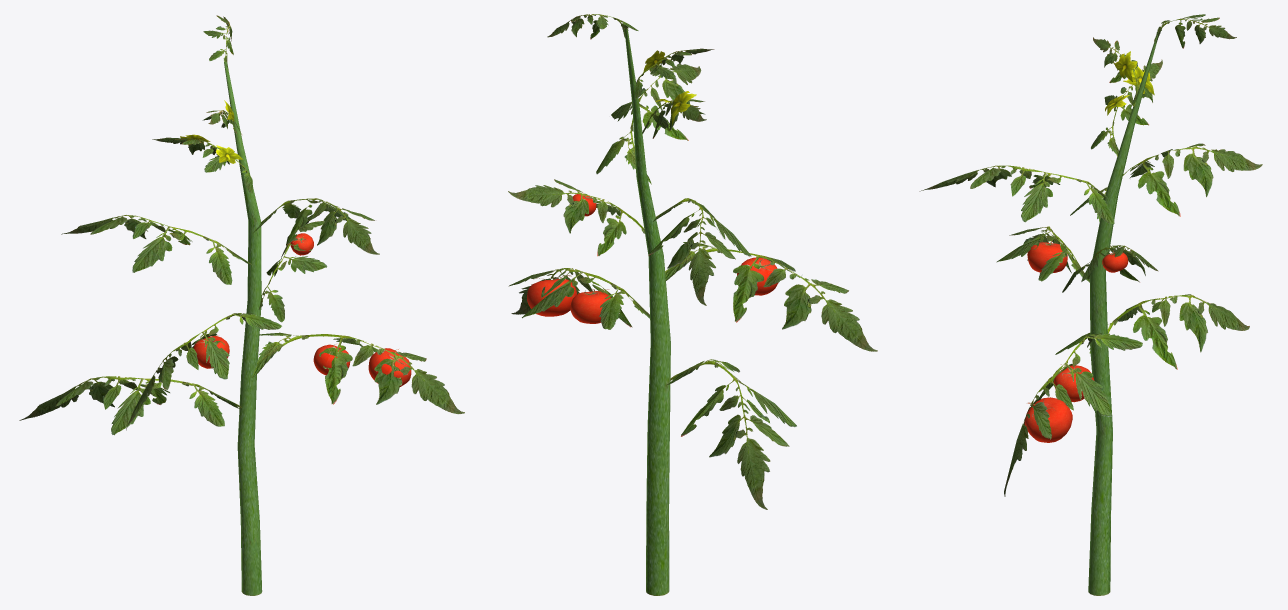
The model's file is tomato_plant.glb.
The picture shows the model from 3 angles, left to right: view 1: azimuth 30°, elevation 25°; view 2: azimuth 150°, elevation 25°; view 3: azimuth 270°, elevation 25°; orthographic projection. The views are drawn at different scales.
Parts seen in each view (by area): view 1: Object_2; view 2: Object_2; view 3: Object_2.
Boxes of the visible parts, x1,y1,x2,y2 form: Object_2: (19, 15, 464, 595); Object_2: (508, 14, 877, 595); Object_2: (919, 14, 1262, 595).
Bounding box in the file's own units: 208 × 312 × 176.
1 material, 1 textured.
